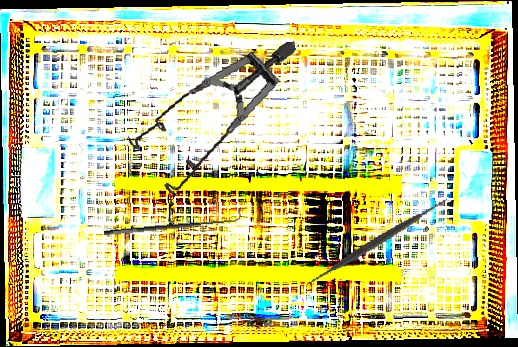Hook Surgical: (102, 207, 243, 238)
Spatula Surgical: (297, 162, 457, 322)
Speculum: (118, 41, 314, 202)
